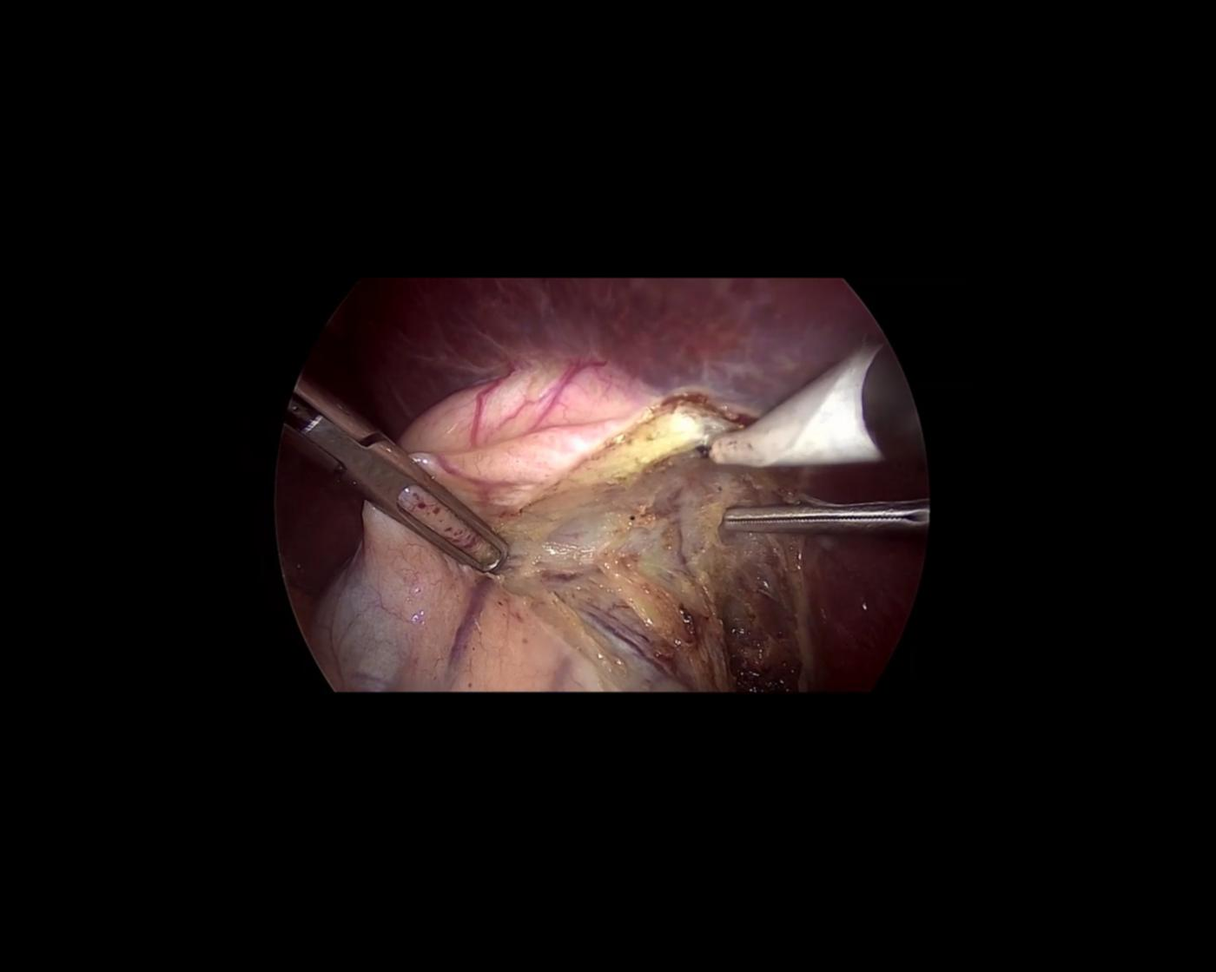Cautery: (699, 336, 942, 549)
Forceps: (265, 373, 517, 600), (723, 500, 932, 531)
Gallbladder: (311, 361, 728, 690)
Liver: (280, 88, 1027, 713)
